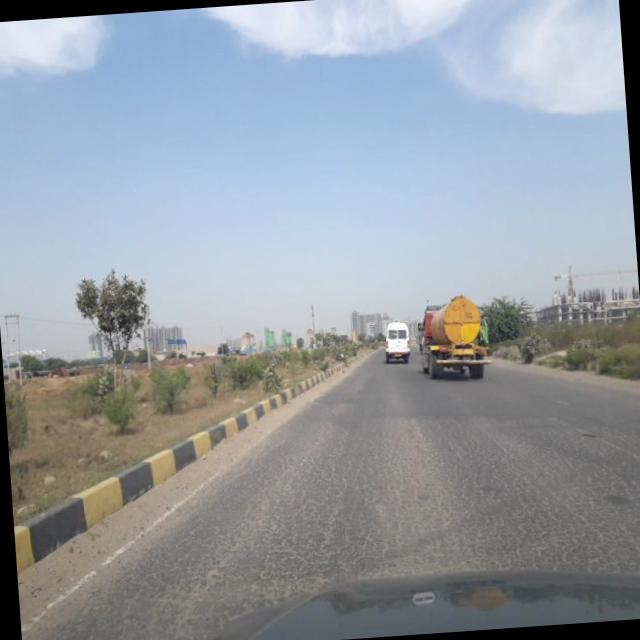crack: (186, 412, 640, 590), (12, 497, 201, 640)
